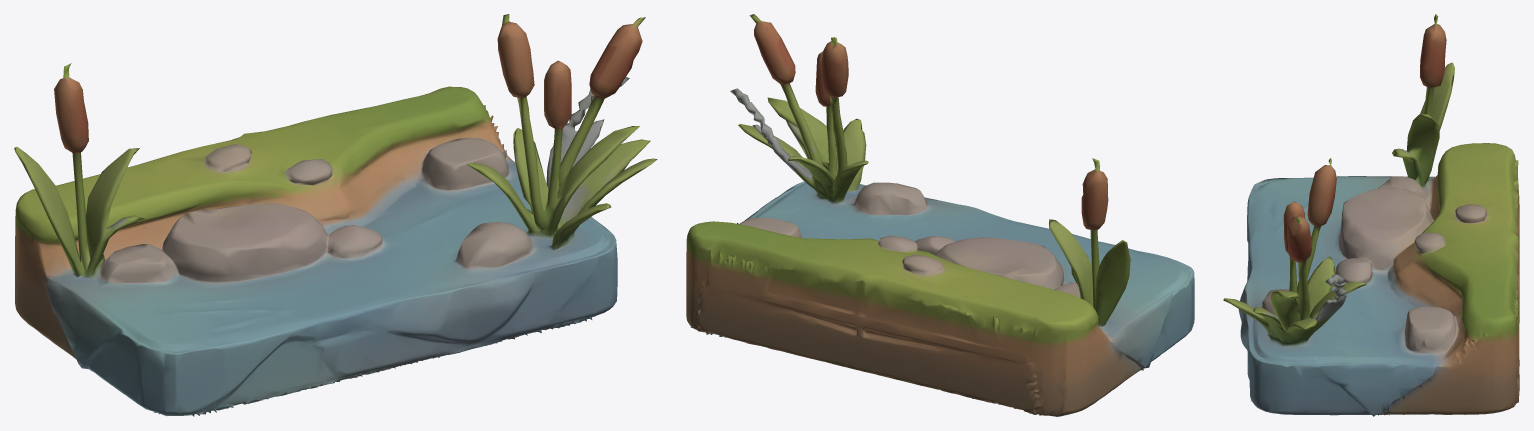
File: stylized water feature 3d model.glb
The picture shows the model from 3 angles, left to right: view 1: azimuth 30°, elevation 25°; view 2: azimuth 150°, elevation 25°; view 3: azimuth 270°, elevation 25°; orthographic projection. The views are drawn at different scales.
Visible parts, largest first — view 1: tripo_node_9b03a39a-a966-4dc1-8473-31cbd5111b50; view 2: tripo_node_9b03a39a-a966-4dc1-8473-31cbd5111b50; view 3: tripo_node_9b03a39a-a966-4dc1-8473-31cbd5111b50.
Boxes of the visible parts, left/top/right/bottom form: tripo_node_9b03a39a-a966-4dc1-8473-31cbd5111b50: left=14, top=14, right=657, bottom=416; tripo_node_9b03a39a-a966-4dc1-8473-31cbd5111b50: left=686, top=14, right=1194, bottom=416; tripo_node_9b03a39a-a966-4dc1-8473-31cbd5111b50: left=1223, top=14, right=1519, bottom=416.
Bounding box in the file's own units: 1 × 0.4881 × 0.574.
Materials: 1 (1 with a texture image).
